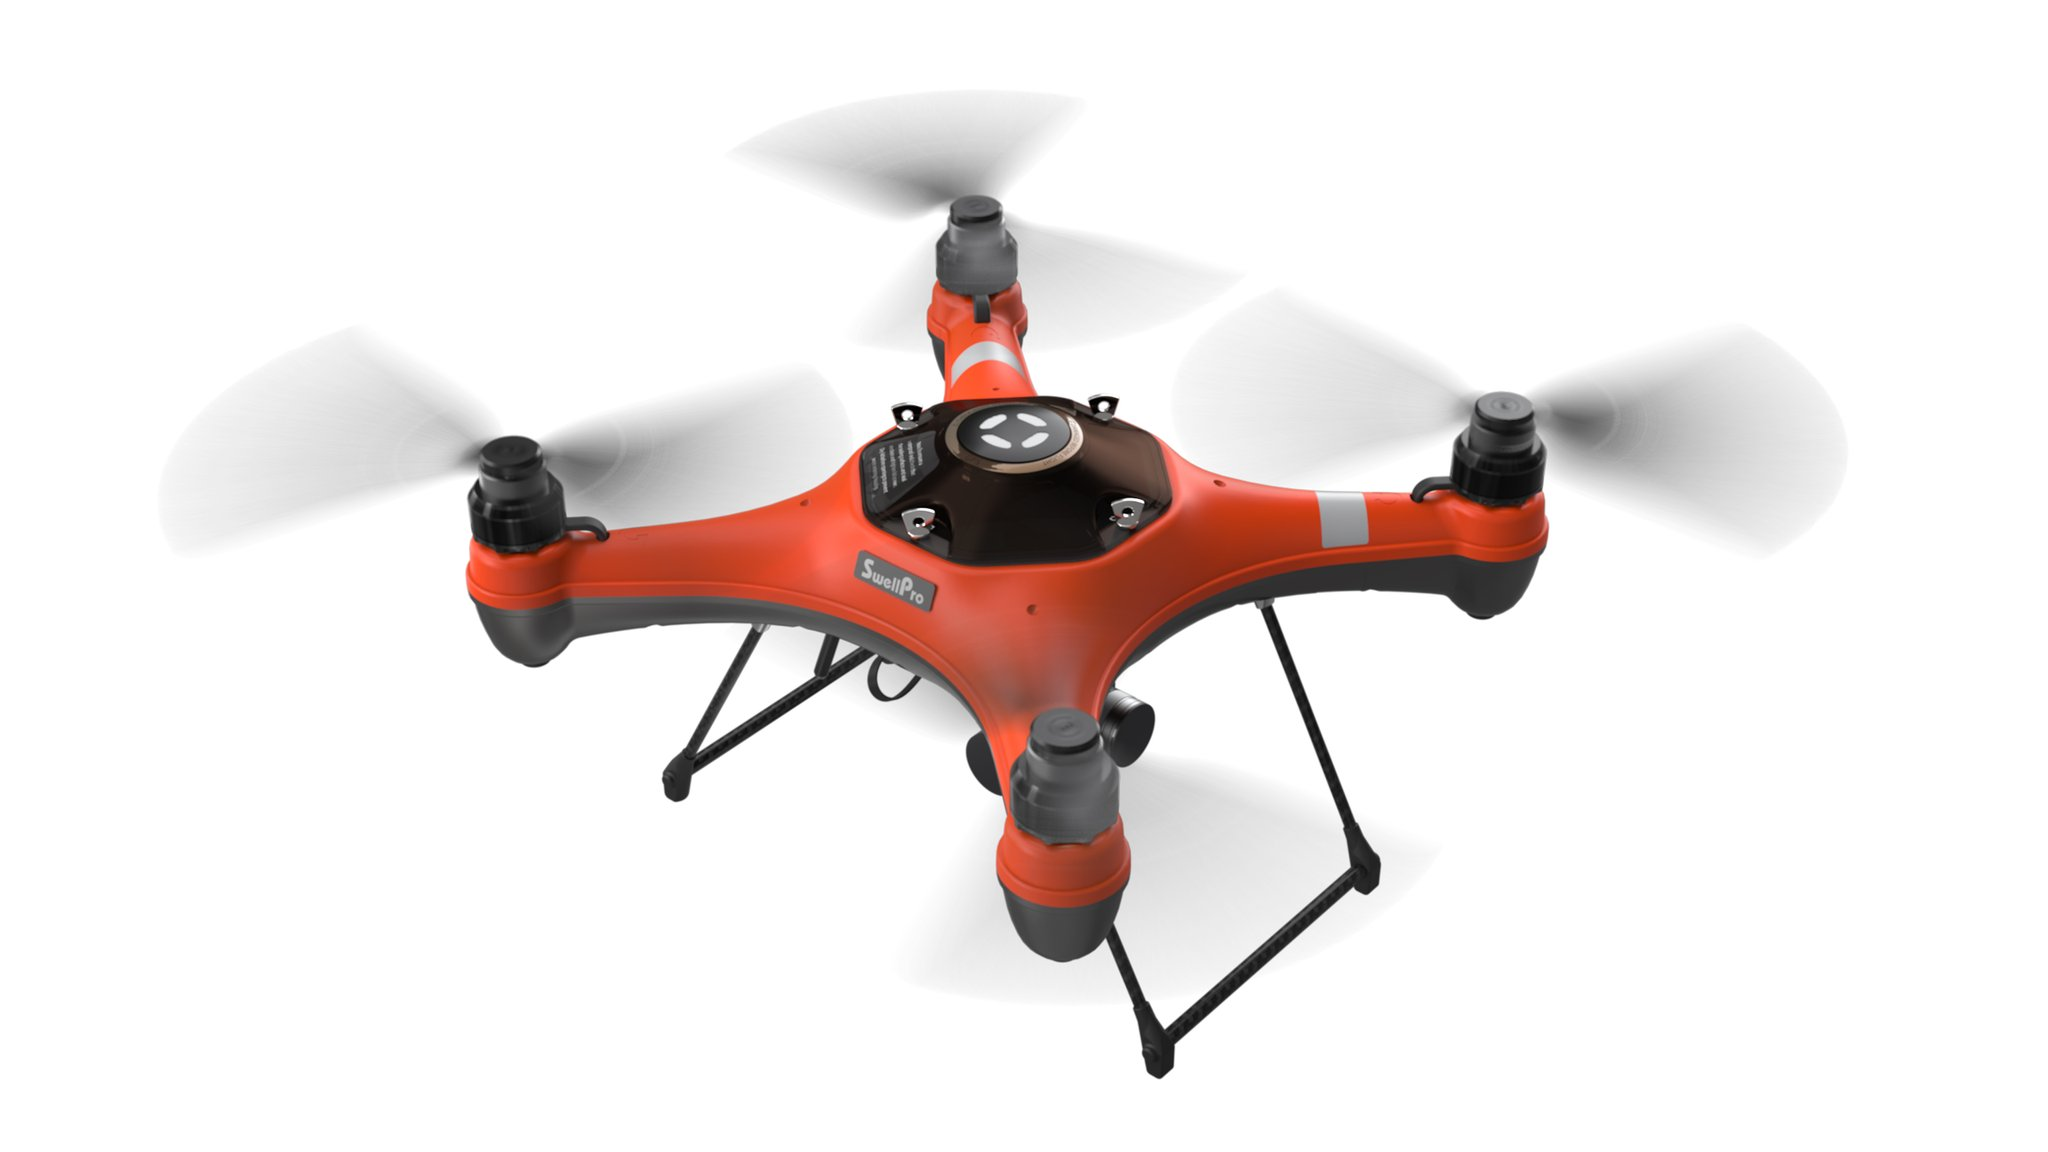drone: (169, 84, 1850, 1090)
